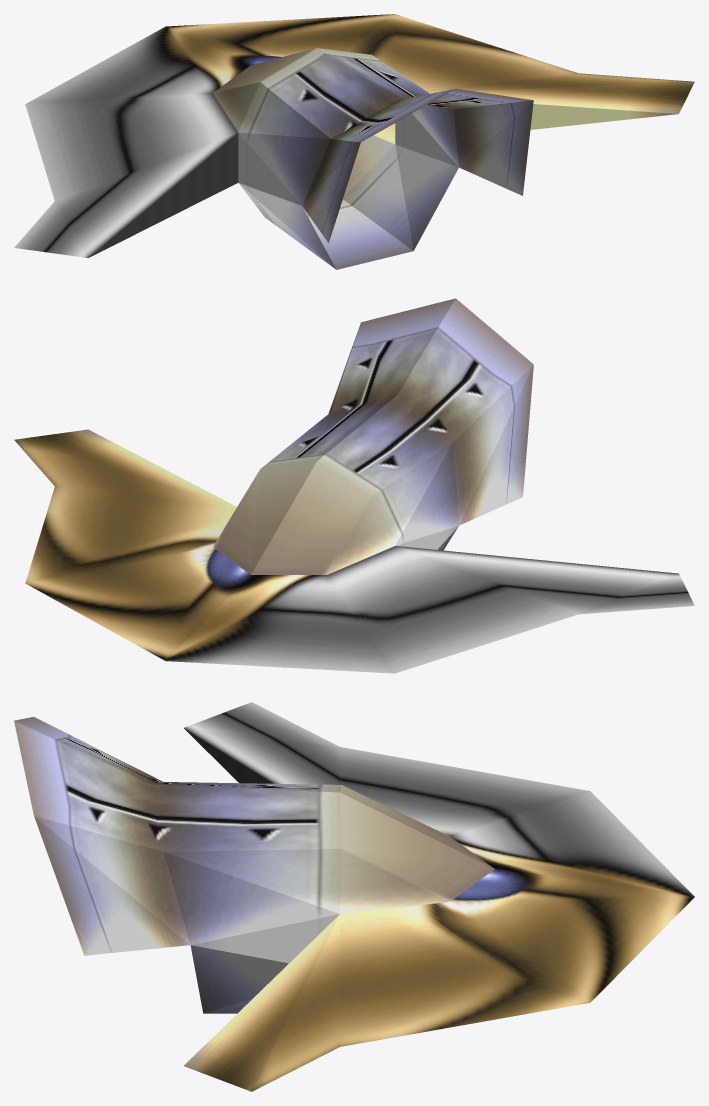
The model's file is twinblade102.obj.
3 views of the same model, one above another, from view 1: azimuth 30°, elevation 25°; view 2: azimuth 150°, elevation 25°; view 3: azimuth 270°, elevation 25° (orthographic). The views are drawn at different scales.
Visible parts, largest first — view 1: MDL_cwdhkn02r; view 2: MDL_cwdhkn02r; view 3: MDL_cwdhkn02r.
Boxes of the visible parts, x1,y1,x2,y2 form: MDL_cwdhkn02r: (14,14,694,269); MDL_cwdhkn02r: (14,298,694,673); MDL_cwdhkn02r: (14,702,694,1091).
Bounding box in the file's own units: 0.64 × 0.2074 × 0.4725.
